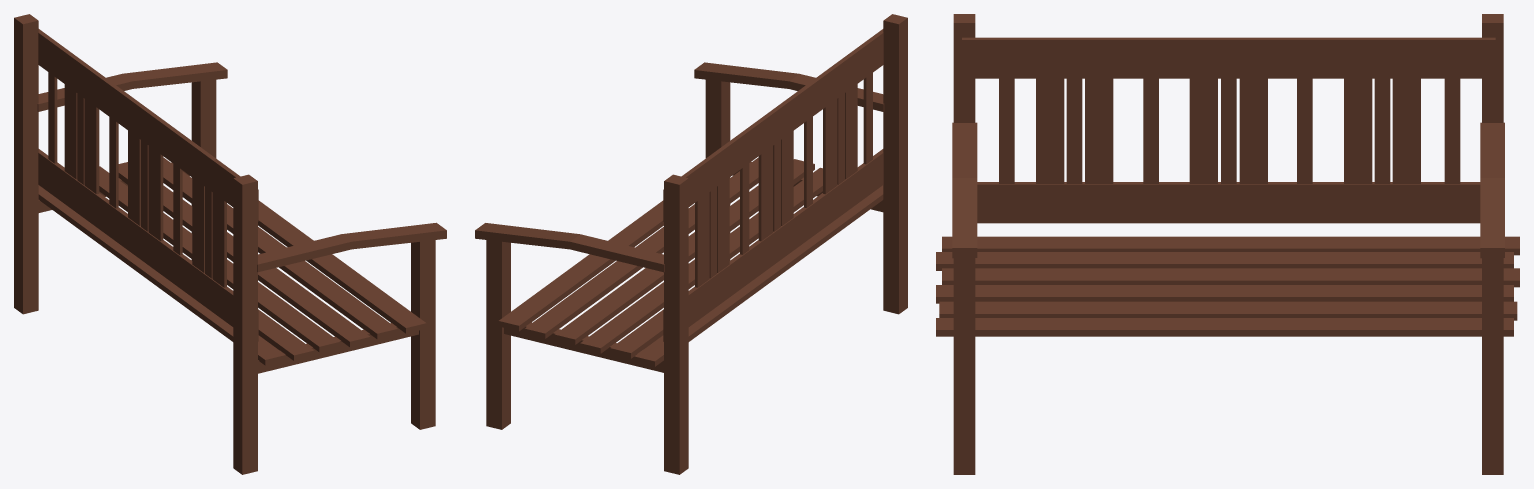
File: benchh.fbx
3 views of the same model, side by side, from view 1: azimuth 30°, elevation 25°; view 2: azimuth 150°, elevation 25°; view 3: azimuth 270°, elevation 25° (orthographic). The views are drawn at different scales.
Parts seen in each view (by area): view 1: Cube.014; view 2: Cube.014; view 3: Cube.014.
Boxes of the visible parts, x1,y1,x2,y2 form: Cube.014: (14, 14, 446, 474); Cube.014: (475, 14, 907, 474); Cube.014: (936, 14, 1519, 474).
Size of the model in its own units: 202 by 275 by 416.
